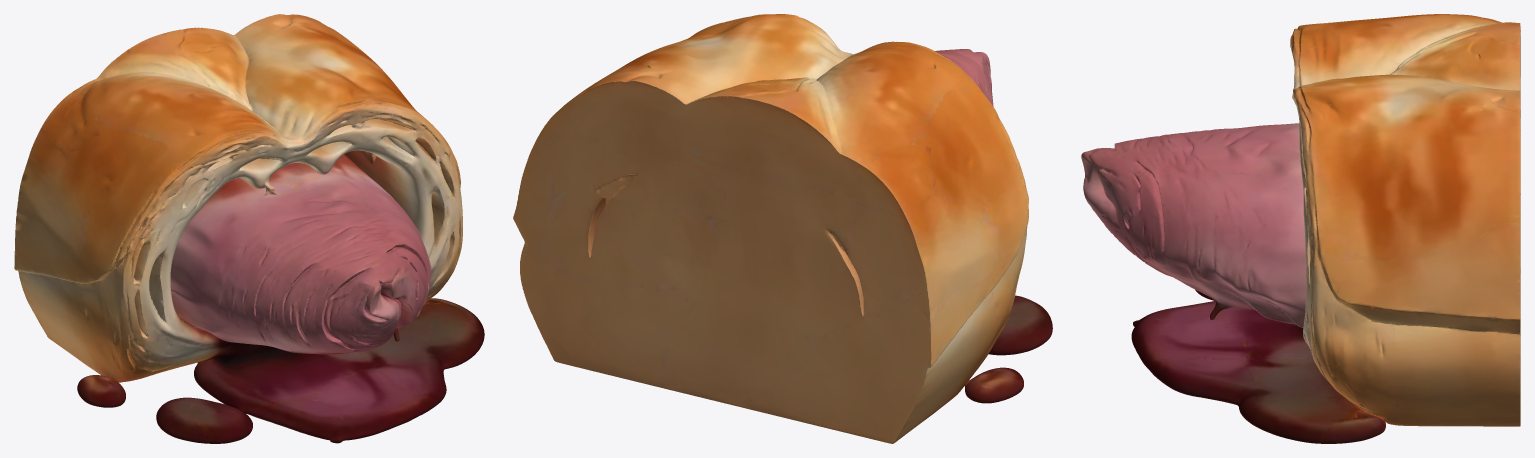
Rendered from wellington.glb.
The picture shows the model from 3 angles, left to right: view 1: azimuth 30°, elevation 25°; view 2: azimuth 150°, elevation 25°; view 3: azimuth 270°, elevation 25°; orthographic projection. The views are drawn at different scales.
Parts seen in each view (by area): view 1: model; view 2: model; view 3: model.
Boxes of the visible parts, x1,y1,x2,y2 form: model: (14,14,484,443); model: (513,14,1052,443); model: (1081,14,1520,443).
Bounding box in the file's own units: 1.73 × 1.22 × 1.63.
1 material, 1 textured.
